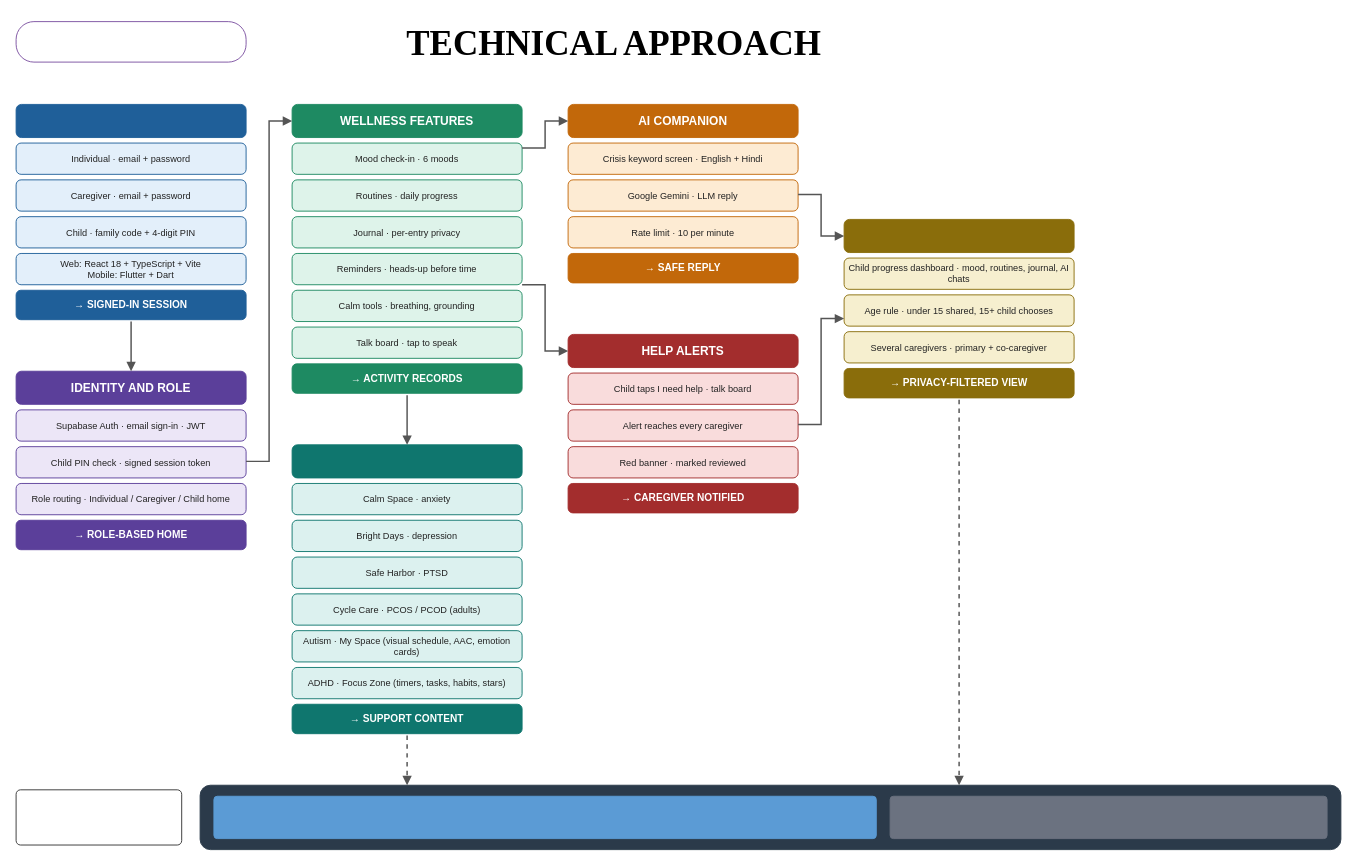
Some shapes in this 1357 by 866 pixel diagram are drawn without their labels. Each missing label, with the centre of its shape:
BACKEND AND DATA: point 98,817
CAREGIVER OVERSIGHT: point 958,235
CONDITION MODULES: point 406,461
GOOGLE GEMINI API — external, AI Companion only: point 1108,817
SafeSpace: point 130,41
SUPABASE — PostgreSQL · Row Level Security · Auth · Storage: point 544,817
USER INPUT: point 130,121
